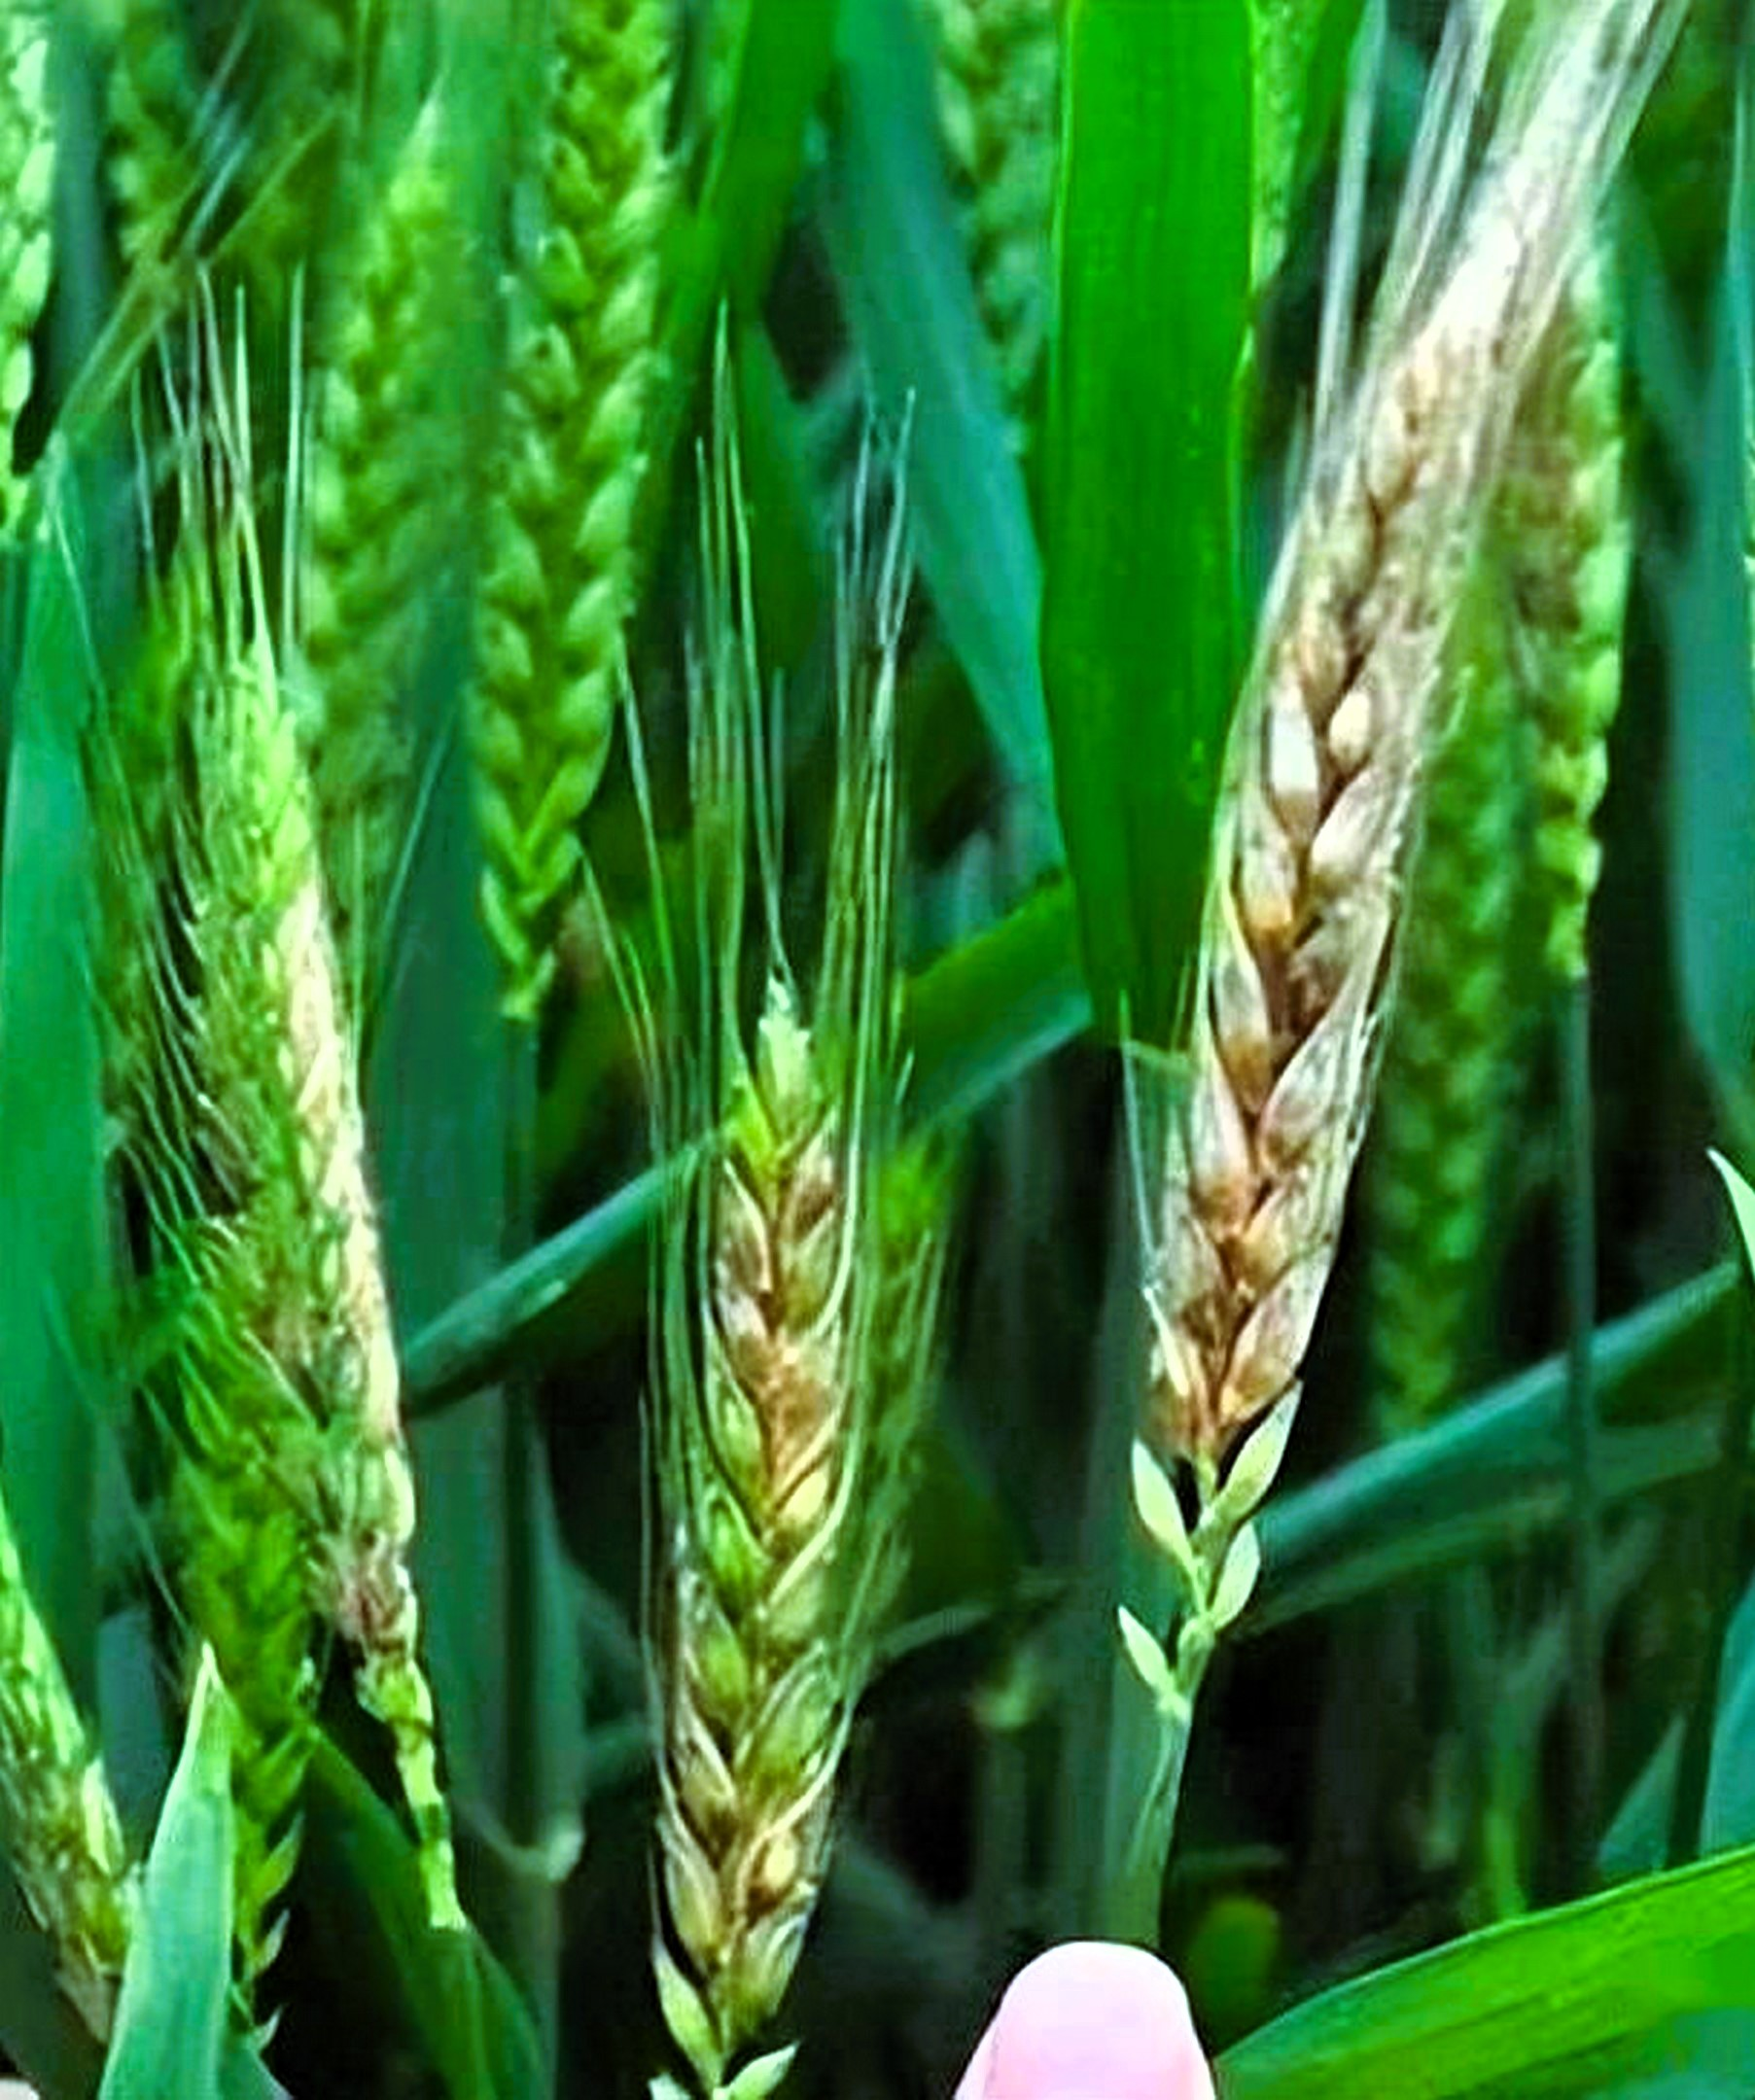Wheat scab: (605, 985, 921, 2100)
